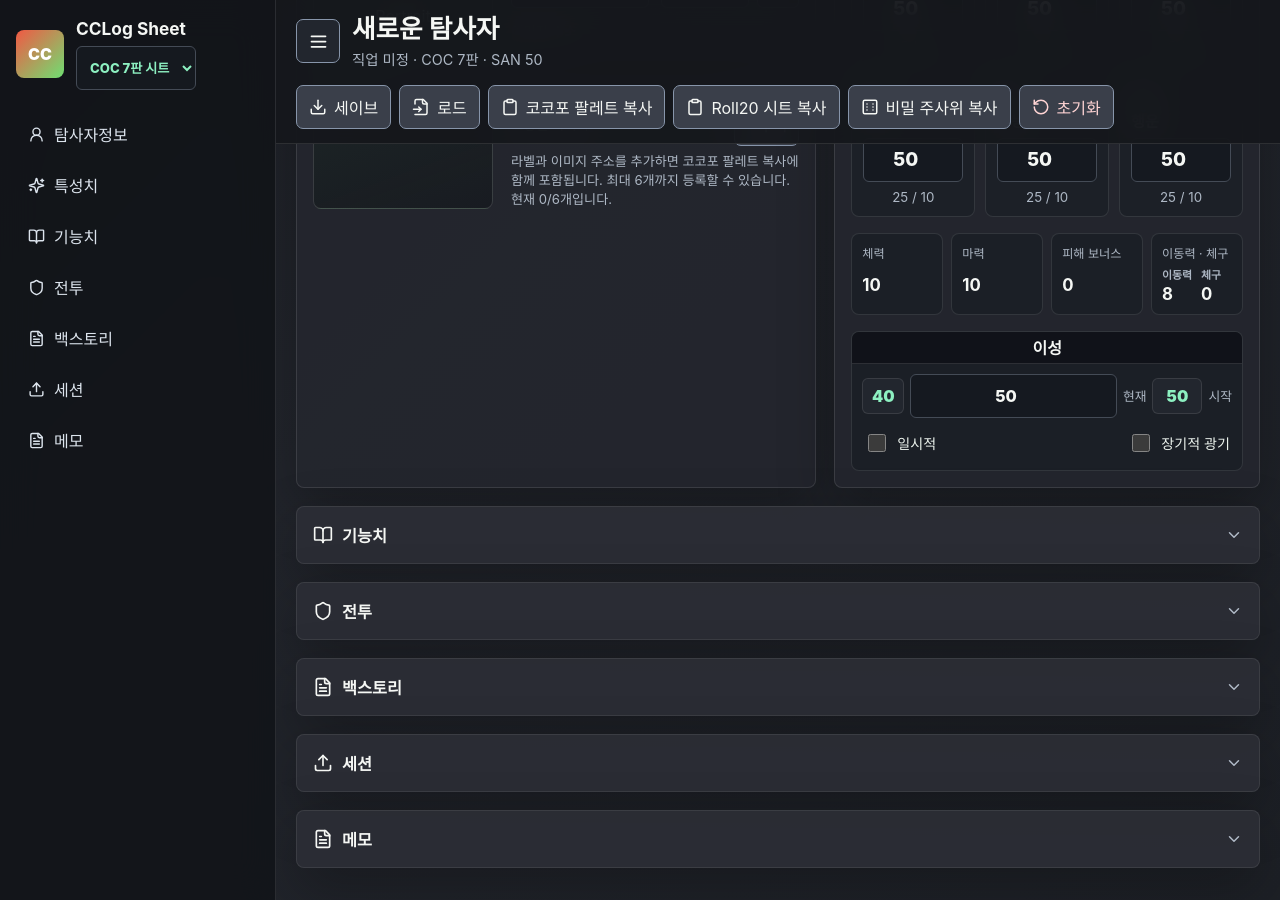
Test case: App accessibility smoke › names a repeated standing-image delete button by its item number
The image size is (1280, 900).
(page scrolled)
Click the button "기능치" at [365, 536], box left=313, top=507, right=1243, bottom=563
(page scrolled)
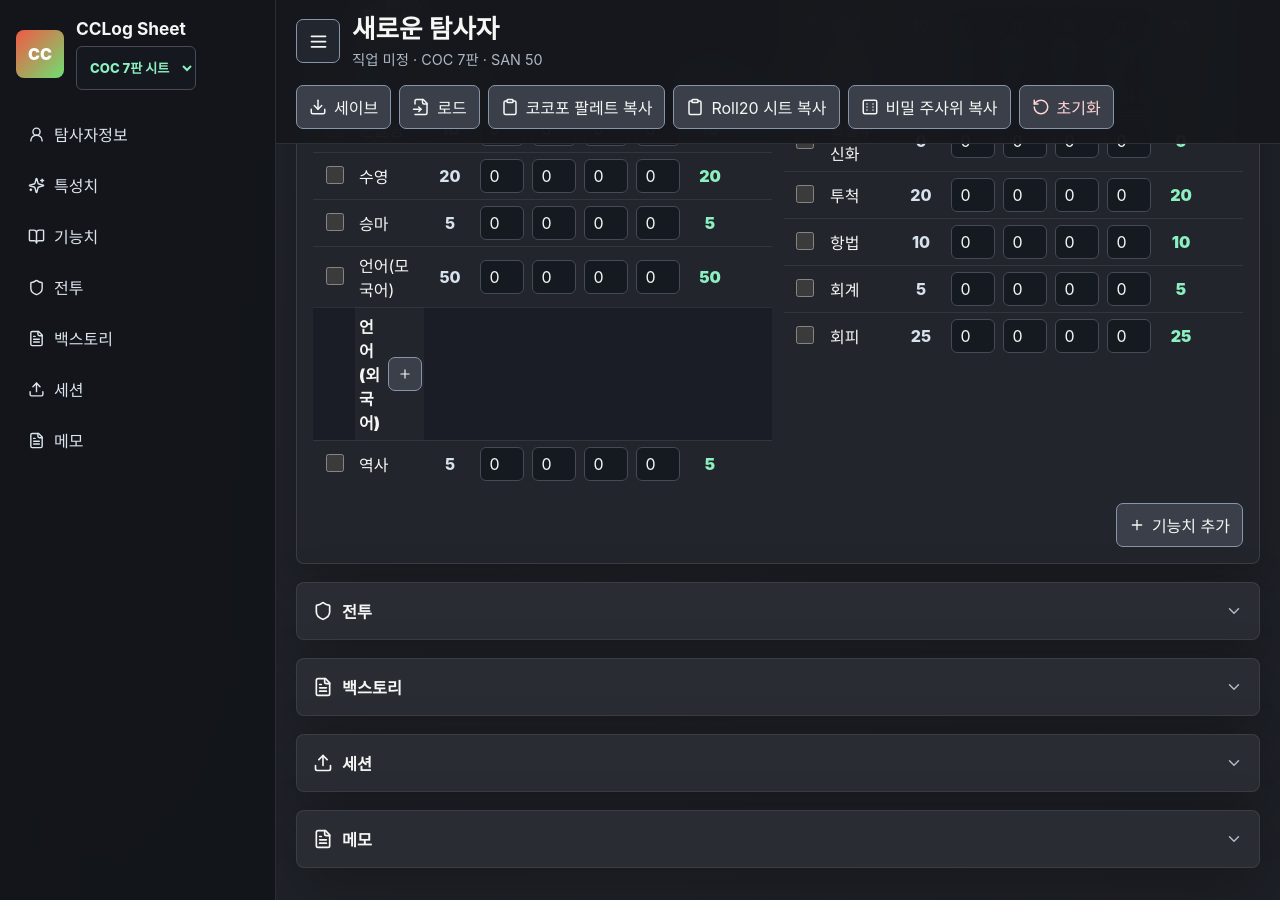
Click the button "전투" at [357, 612], box left=313, top=583, right=1243, bottom=639
(page scrolled)
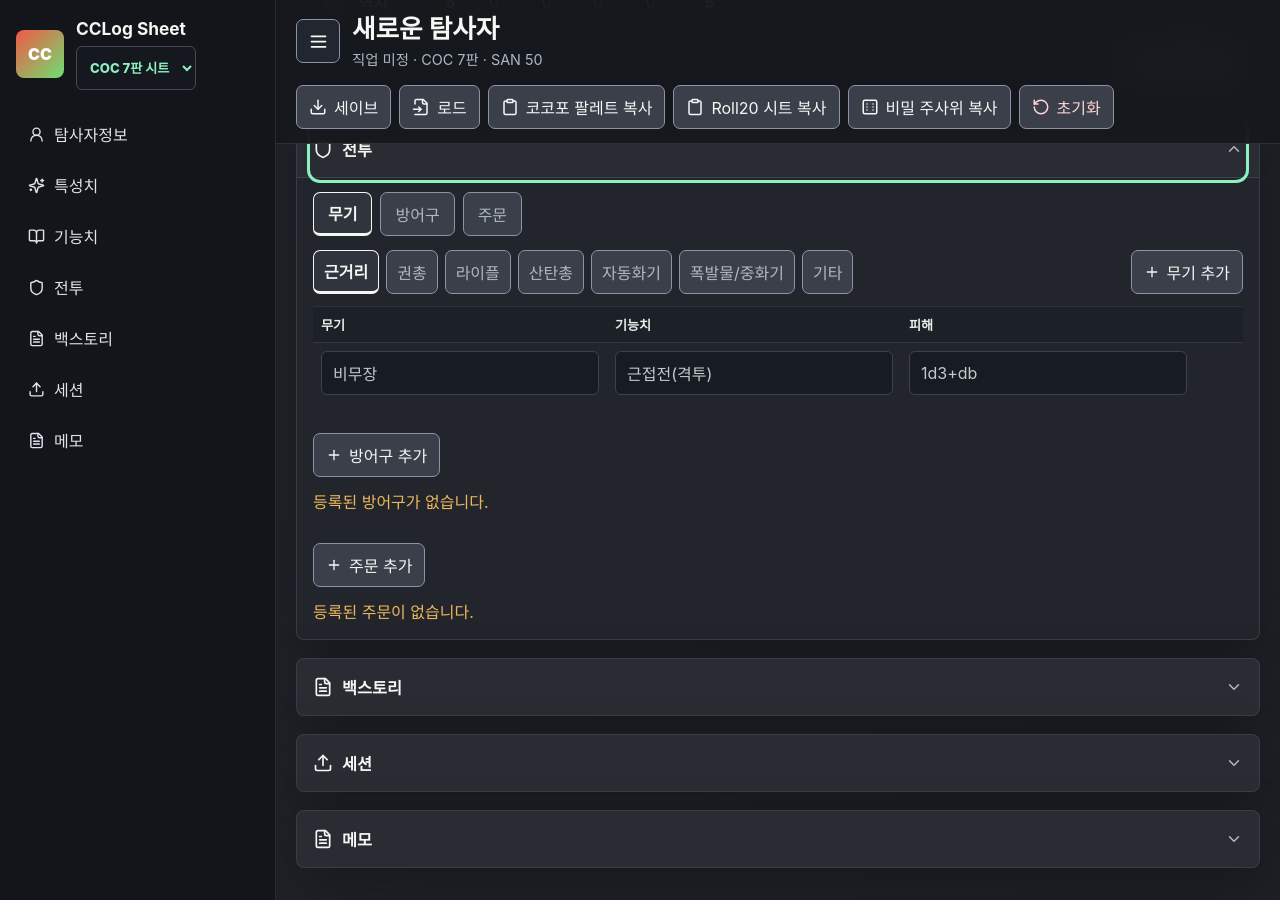
Click the button "백스토리" at [372, 688], box left=313, top=659, right=1243, bottom=715
(page scrolled)
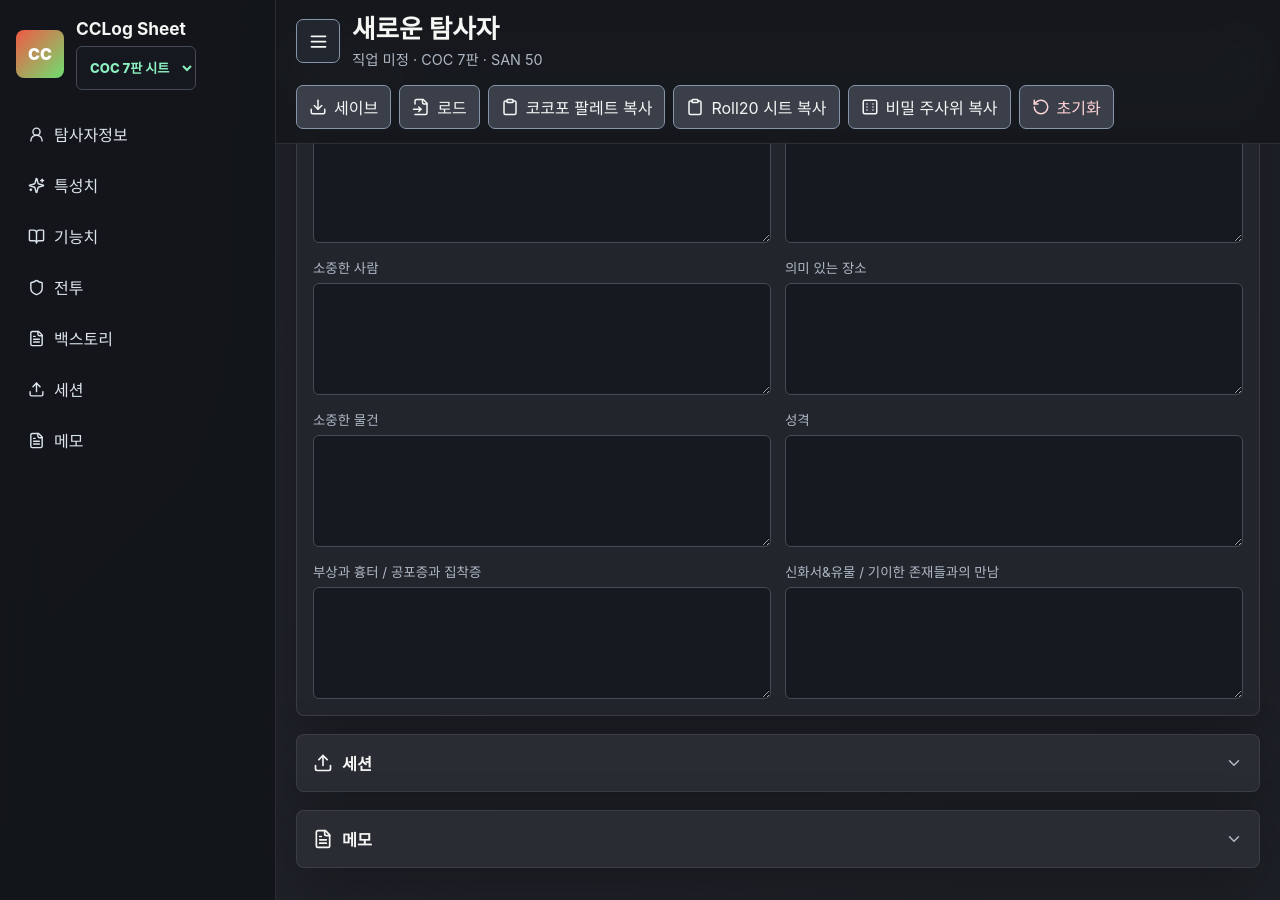
Click the button "세션" at [357, 764], box left=313, top=735, right=1243, bottom=791
(page scrolled)
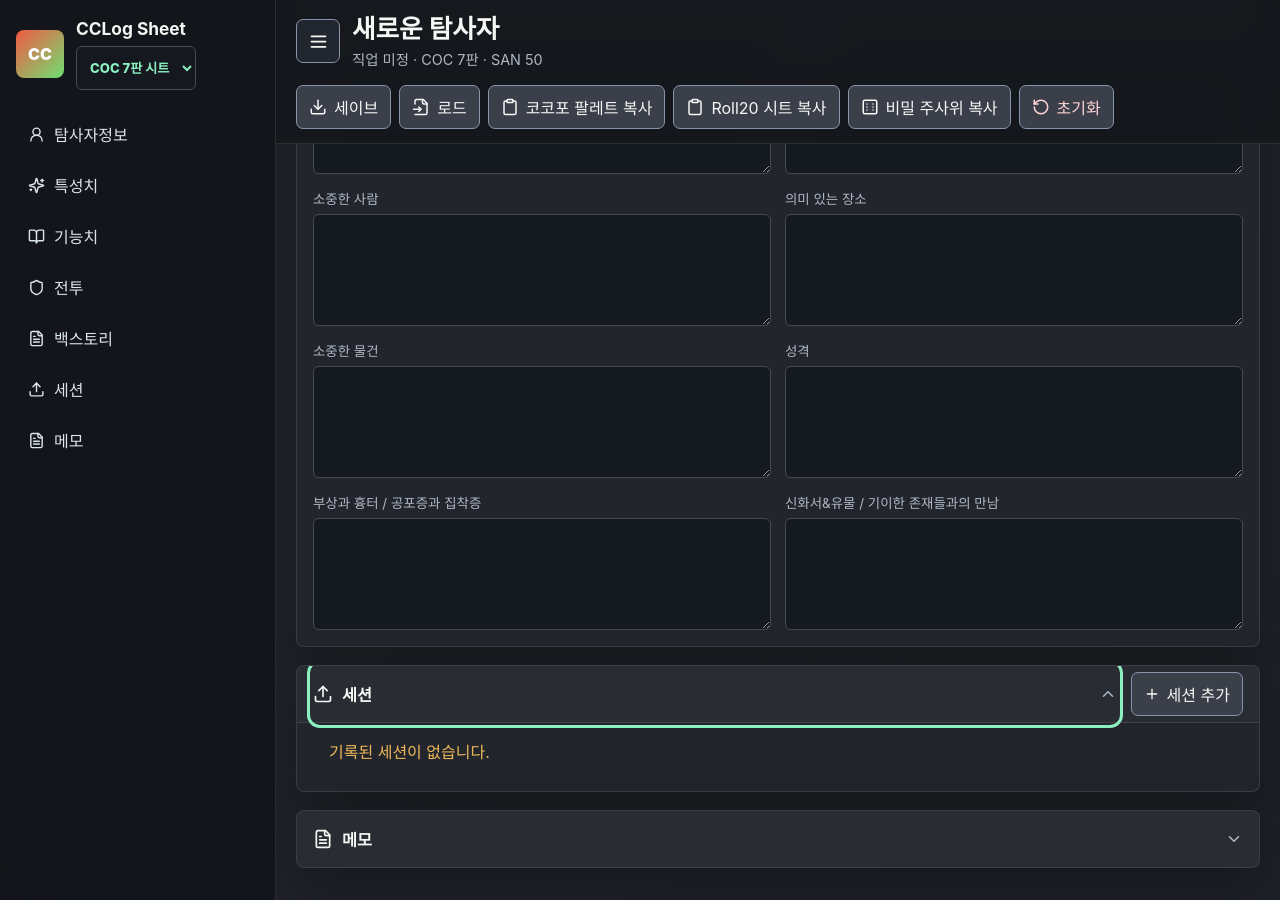
Click the button "메모" at [357, 840], box left=313, top=811, right=1243, bottom=867
(page scrolled)
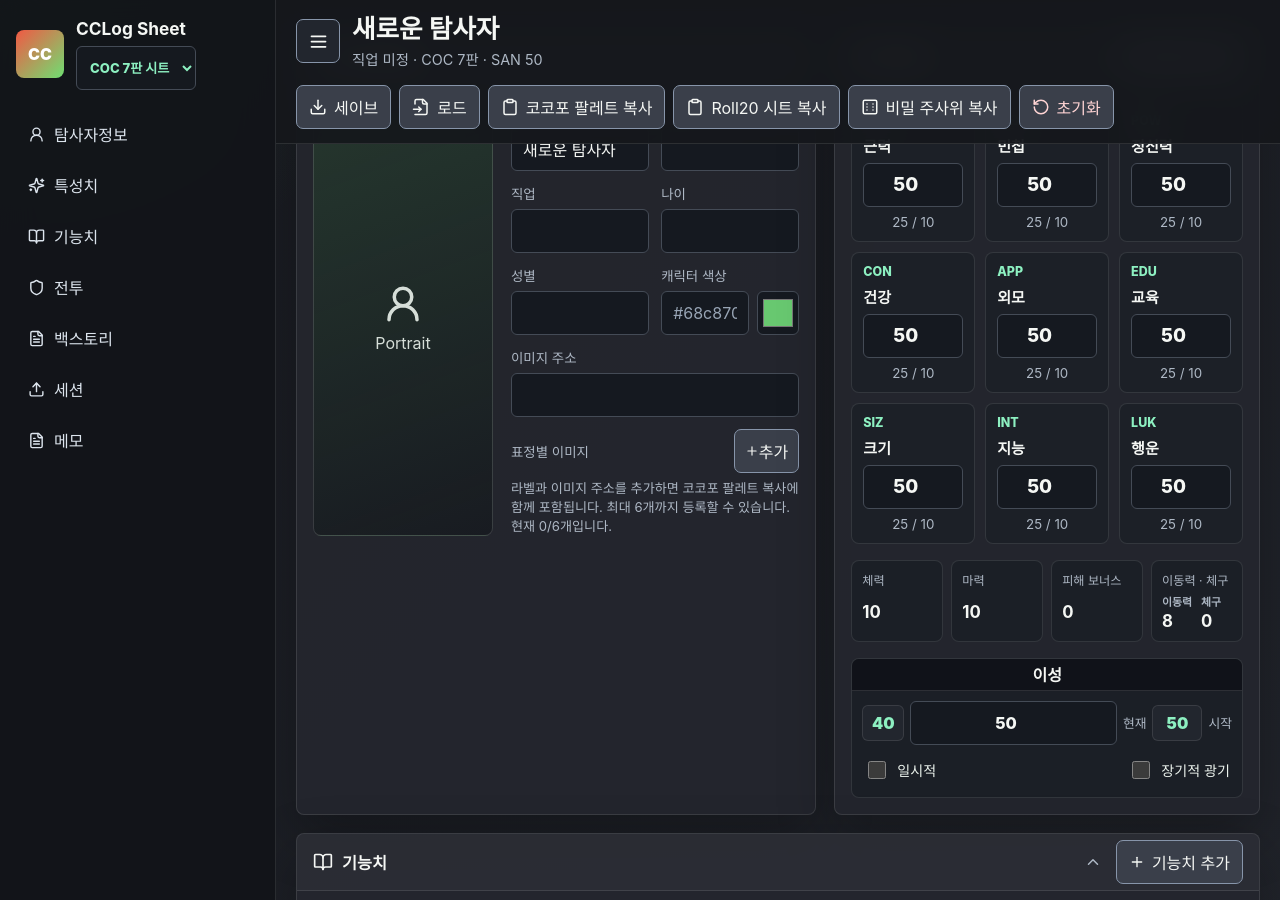
Click the button "추가" at [767, 451], box left=734, top=429, right=799, bottom=473
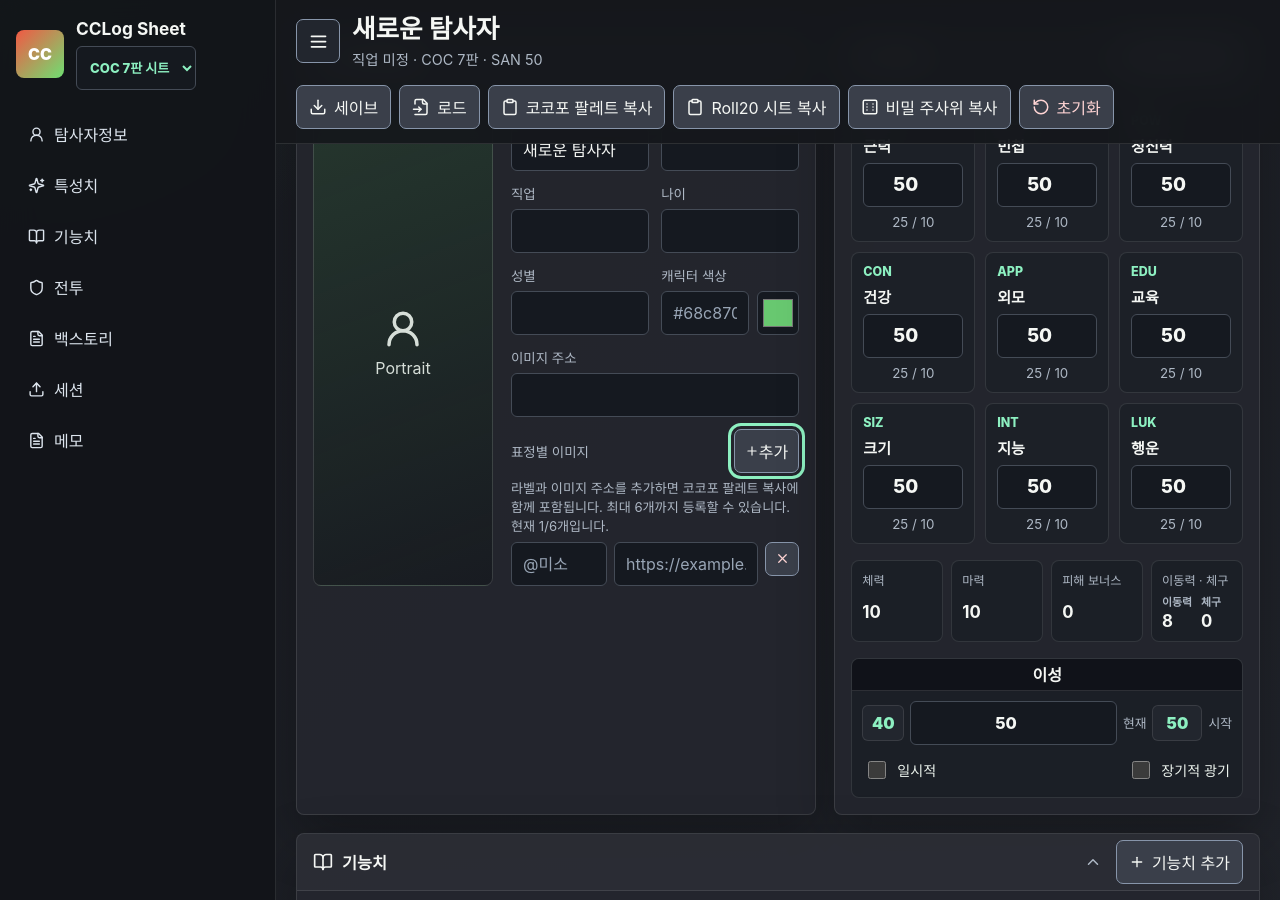
Now the button named "표정 이미지 1 삭제" is shown, box left=765, top=542, right=799, bottom=576
